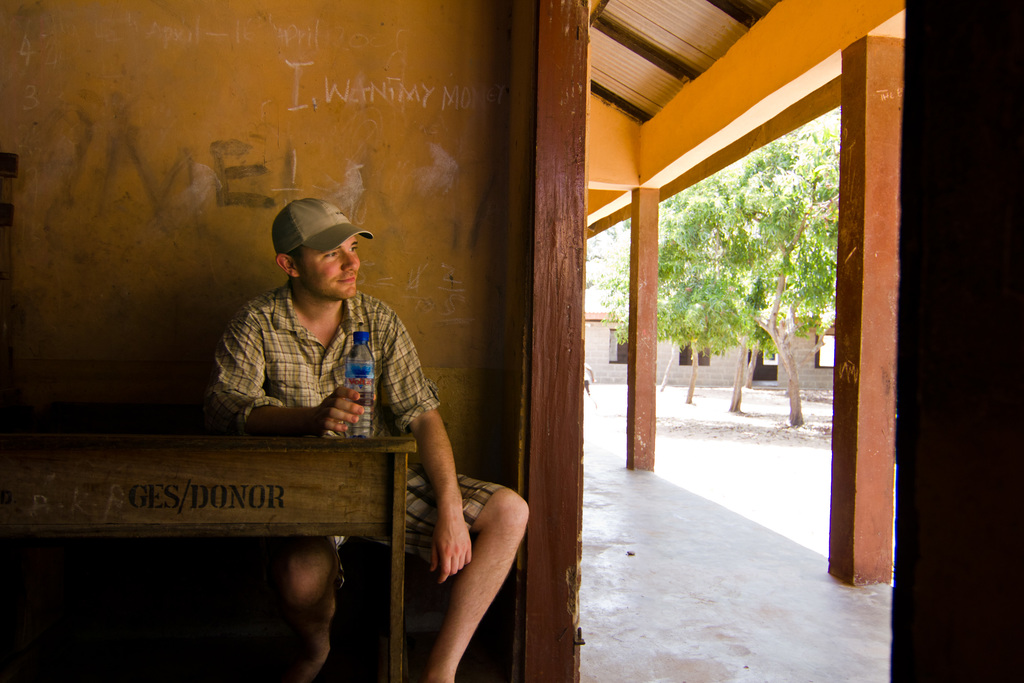hats: (270, 195, 376, 304)
